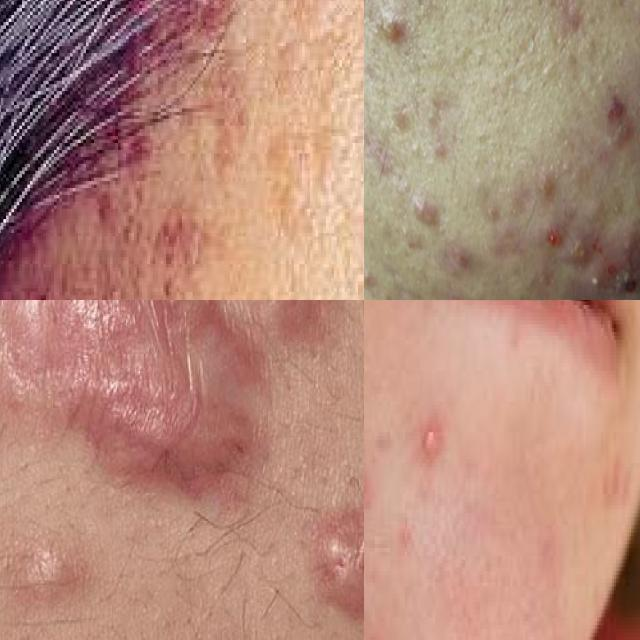acne_scars: (603, 83, 632, 144)
crystanlline: (560, 223, 598, 280), (410, 188, 445, 244), (376, 8, 414, 46)
cystic: (2, 507, 86, 629)
flat_wart: (278, 0, 364, 300)
keloid: (0, 300, 292, 498), (293, 482, 364, 640), (284, 300, 328, 359)
pustule: (611, 227, 640, 265)
